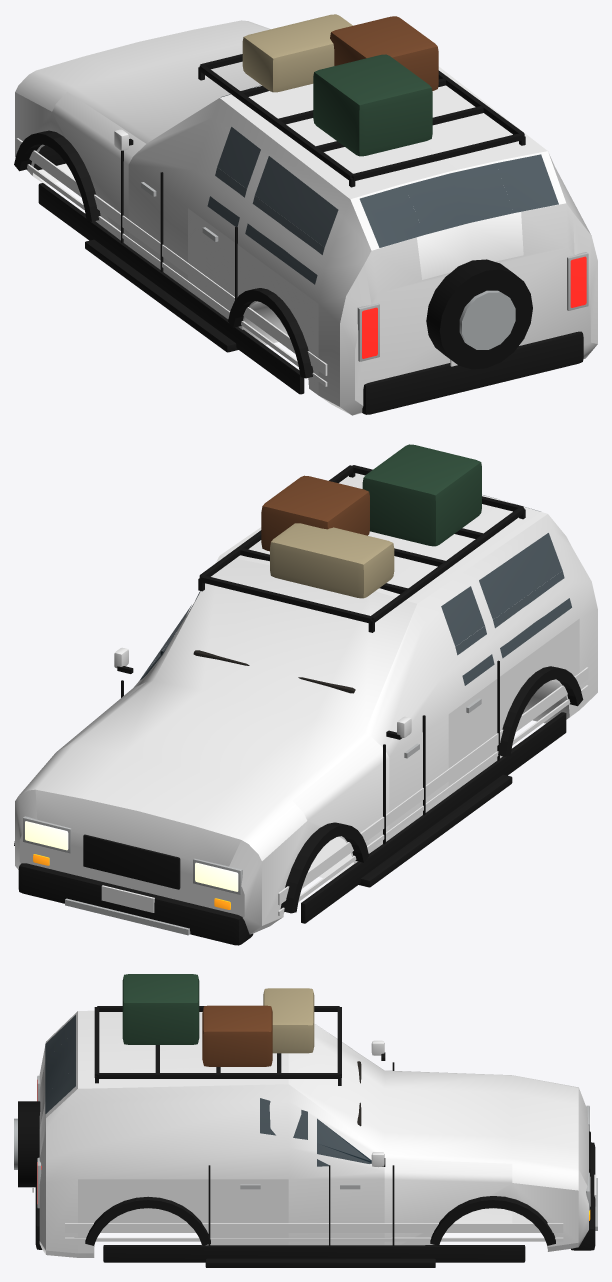
The model's file is druk-ranger.glb.
3 views of the same model, one above another, from view 1: azimuth 30°, elevation 25°; view 2: azimuth 150°, elevation 25°; view 3: azimuth 270°, elevation 25° (orthographic). The views are drawn at different scales.
Parts seen in each view (by area): view 1: body; view 2: body; view 3: body.
Boxes of the visible parts, left/top/right/bottom form: body: left=14, top=14, right=597, bottom=415; body: left=14, top=444, right=597, bottom=945; body: left=14, top=974, right=597, bottom=1267.
Size of the model in its own units: 2.12 by 1.86 by 4.57.
